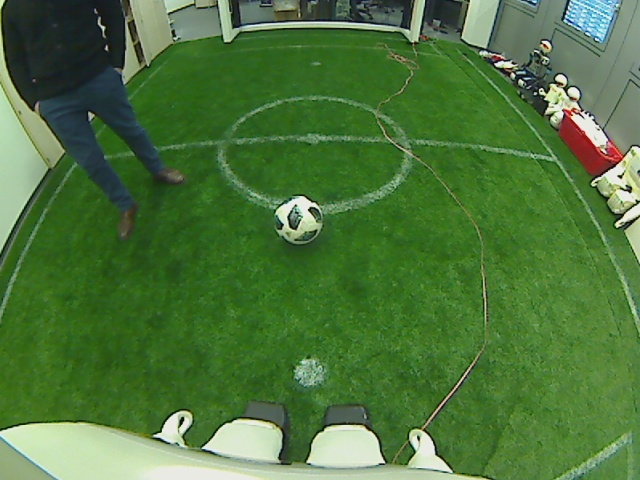ball: (273, 195, 323, 244)
